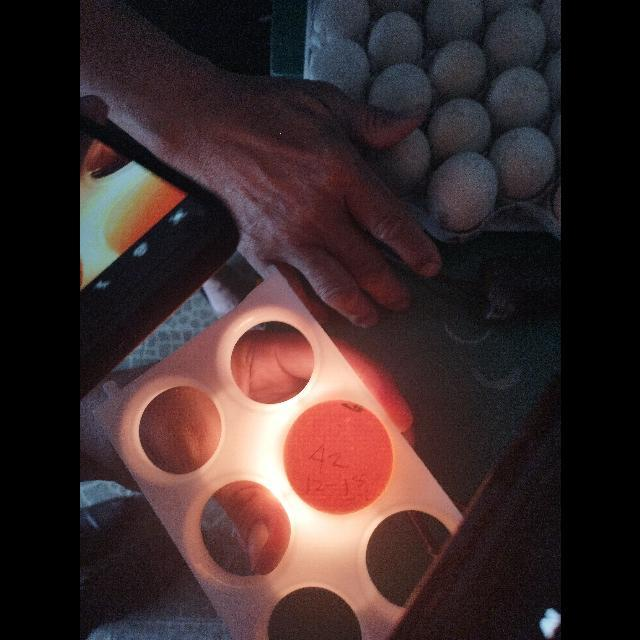Infertile: (280, 409, 390, 511)
